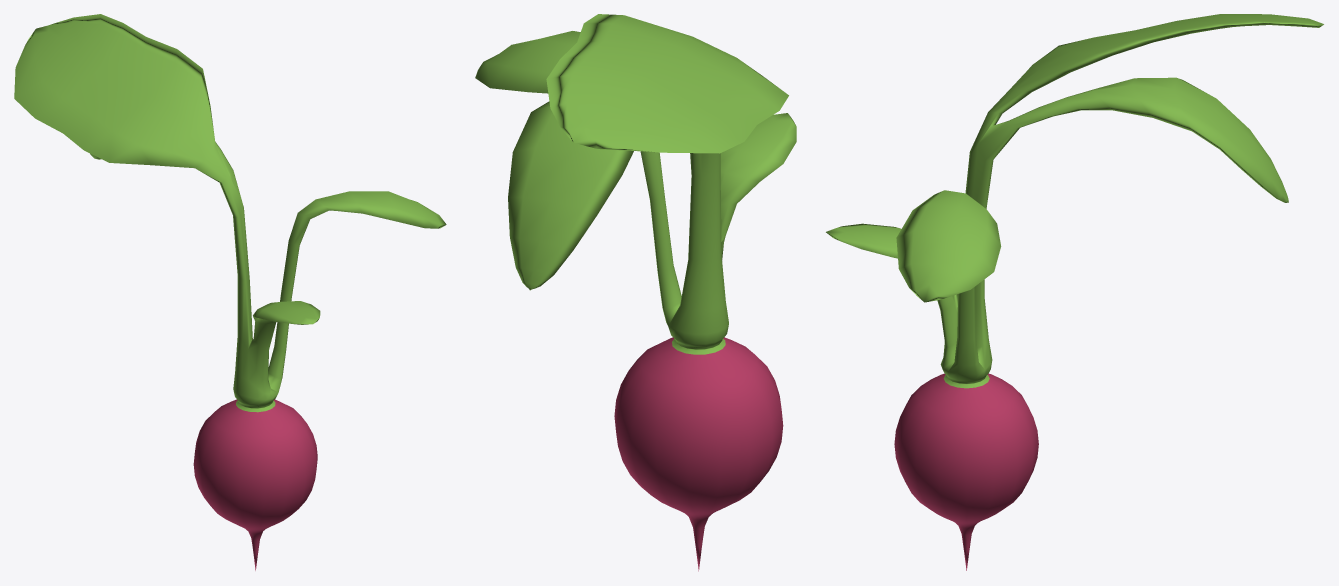
The model's file is raddish_smoothed.fbx.
3 renders of one model, left to right at view 1: azimuth 30°, elevation 25°; view 2: azimuth 150°, elevation 25°; view 3: azimuth 270°, elevation 25°, orthographic. The views are drawn at different scales.
Visible parts, largest first — view 1: raddish_prototype; view 2: raddish_prototype; view 3: raddish_prototype.
Part boxes in pixels (x1=…): raddish_prototype: x1=14, y1=14, x2=446, y2=570; raddish_prototype: x1=475, y1=14, x2=796, y2=571; raddish_prototype: x1=826, y1=14, x2=1323, y2=570.
Bounding box in the file's own units: 50.34 × 74.56 × 62.81.
